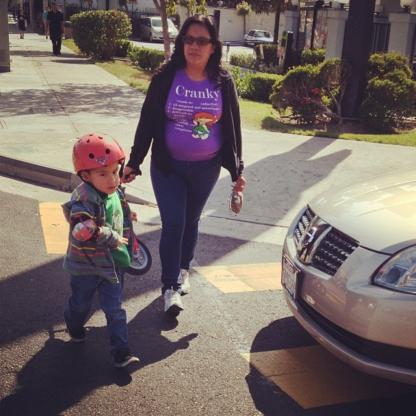Helmet: (70, 133, 128, 192)
